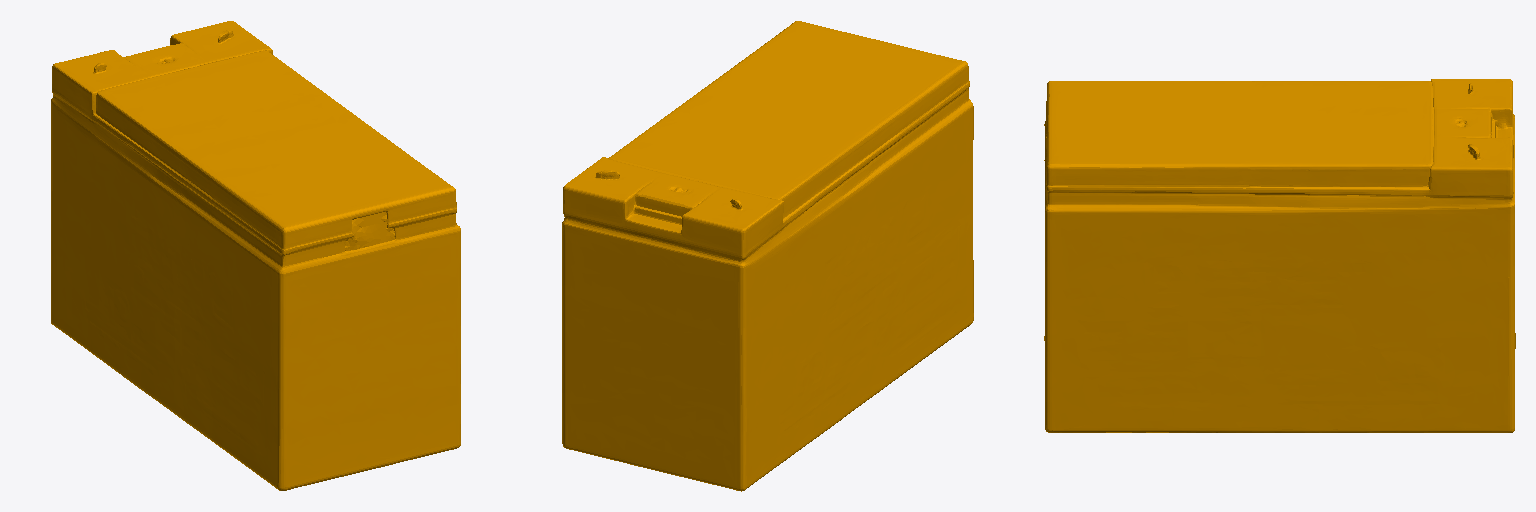
The robot description file, URDF, robot "sample":
<?xml version="1.0" ?>
<robot name="sample">
   <link name="sample">
      <visual>
         <origin xyz="0 0 0" rpy="1.5708 0.0 0.0"/>
         <geometry>
            <mesh filename="mesh/sample.obj" scale="1.0 1.0 1.0"/>
         </geometry>
      </visual>
      <collision>
         <origin xyz="0 0 0" rpy="1.5708 0.0 0.0"/>
         <geometry>
            <mesh filename="mesh/sample_collision.obj" scale="1.0 1.0 1.0"/>
         </geometry>
         <gazebo>
            <mu1>0.70</mu1>
            <mu2>0.50</mu2>
         </gazebo>
      </collision>
      <inertial>
         <mass value="5.0000"/>
         <origin xyz="0 0 0"/>
         <inertia ixx="1.0" ixy="0.0" ixz="0.0" iyy="1.0" iyz="0.0" izz="1.0"/>
      </inertial>
      <extra_info>
         <scale>0.310528</scale>
         <version>v0.1.7</version>
         <category>battery</category>
         <description>rectangular black battery with labeled terminals and specifications</description>
         <min_height>0.18</min_height>
         <max_height>0.22</max_height>
         <real_height>0.2</real_height>
         <min_mass>4.0</min_mass>
         <max_mass>6.0</max_mass>
         <color>black</color>
         <rgba>[0.1, 0.1, 0.1, 1.0]</rgba>
         <generate_time>20260625094205</generate_time>
         <gs_model>mesh/sample_gs.ply</gs_model>
      </extra_info>
   </link>
   <custom_data>
      <quality>
         <MeshGeoChecker>YES</MeshGeoChecker>
         <ImageSegChecker>NO, object is not fully extracted; background artifacts and incomplete edges present.</ImageSegChecker>
         <ImageAestheticChecker>4.720241546630859</ImageAestheticChecker>
         <overall>NO</overall>
      </quality>
   </custom_data>
</robot>

--- What the picture shows (computed from the rendered views, not written in the file) ---
Views: 3 orthographic renders of the robot side by side, from view 1: azimuth 30°, elevation 25°; view 2: azimuth 150°, elevation 25°; view 3: azimuth 270°, elevation 25°.
Robot: sample — 1 links, 0 joints (none); root link sample; default pose: all joints at 0.
Visible links, largest first — view 1: sample; view 2: sample; view 3: sample.
Link boxes in pixels (left/top/right/bottom): sample: left=51, top=21, right=460, bottom=490; sample: left=562, top=21, right=973, bottom=491; sample: left=1044, top=79, right=1515, bottom=432.
Size in the robot's own frame: 0.1422 by 0.3105 by 0.2 metres.
1 mesh visuals loaded from 1 distinct referenced files (1 OBJ).
